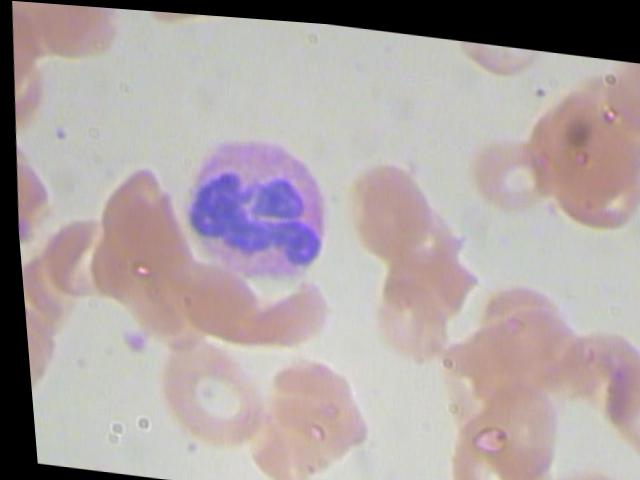Platelets: (111, 320, 147, 362)
Red Blood Cells: (131, 319, 266, 449), (343, 239, 474, 370), (458, 259, 589, 390), (240, 341, 370, 470), (332, 134, 440, 266), (74, 145, 182, 277), (531, 110, 639, 230), (460, 361, 567, 479), (458, 124, 568, 212), (437, 393, 544, 479), (580, 335, 639, 458)
White Blood Cells: (157, 118, 353, 299)
